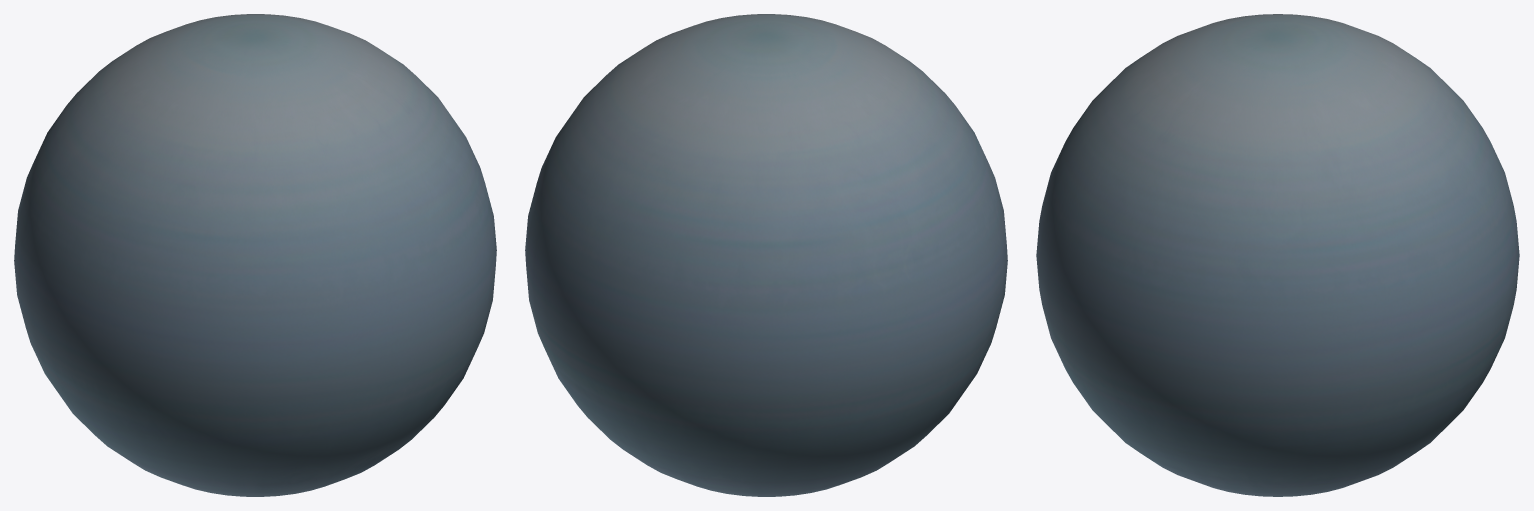
File: Uranus.FBX
The picture shows the model from 3 angles, left to right: view 1: azimuth 30°, elevation 25°; view 2: azimuth 150°, elevation 25°; view 3: azimuth 270°, elevation 25°; orthographic projection.
Visible parts, largest first — view 1: Planet; view 2: Planet; view 3: Planet.
Boxes of the visible parts, left/top/right/bottom form: Planet: left=14, top=14, right=496, bottom=496; Planet: left=525, top=14, right=1007, bottom=496; Planet: left=1036, top=14, right=1519, bottom=496.
Bounding box in the file's own units: 36 × 36 × 36.
Materials: 1 (1 with a texture image).
